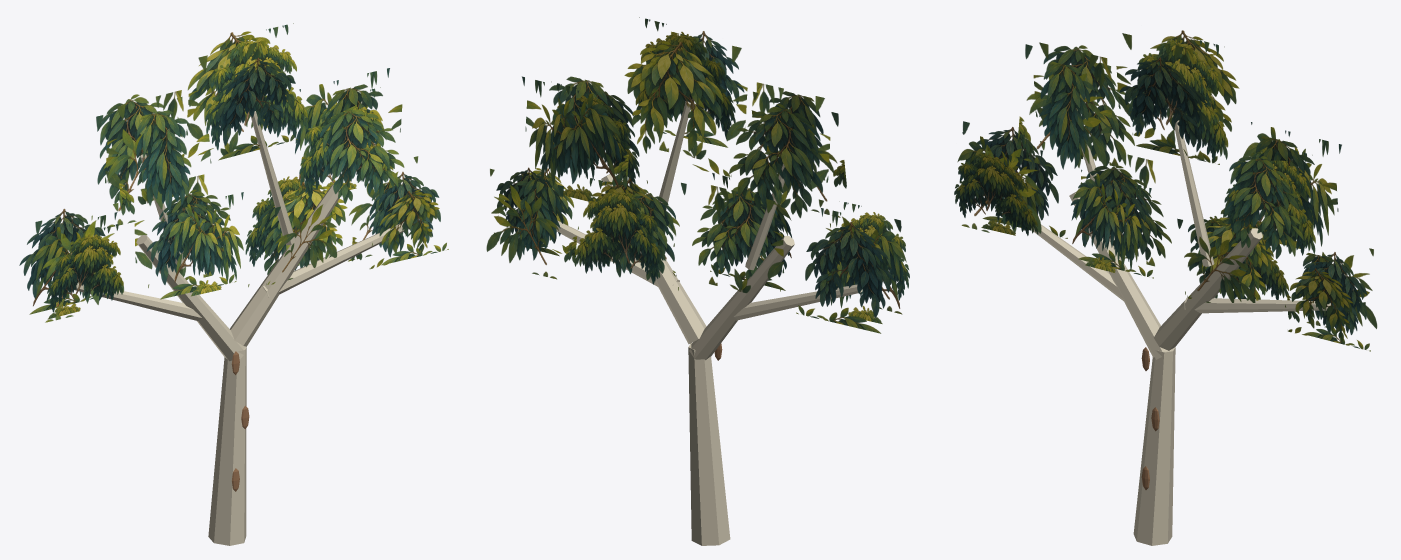
File: TREE_EUCALYPTUS_001_LOD_GAMEPLAY.glb
3 views of the same model, side by side, from view 1: azimuth 30°, elevation 25°; view 2: azimuth 150°, elevation 25°; view 3: azimuth 330°, elevation 25° (orthographic).
Parts seen in each view (by area): view 1: GG_EUC_V2_BRANCH_00, GG_EUC_FRONT_ISLAND_03_CLUSTER_00, GG_EUC_FRONT_ISLAND_02_CLUSTER_00, GG_EUC_FRONT_ISLAND_01_CLUSTER_00, GG_EUC_BODY_ISLAND_02_CLUSTER_01, GG_EUC_FRONT_ISLAND_05_CLUSTER_00, GG_EUC_FRONT_ISLAND_00_CLUSTER_00, GG_EUC_V2_BRANCH_02, GG_EUC_REAR_ISLAND_01_CLUSTER_00, GG_EUC_BODY_ISLAND_05_CLUSTER_00, GG_EUC_FRONT_ISLAND_04_CLUSTER_00, GG_EUC_BODY_ISLAND_03_CLUSTER_00 (+21 smaller); view 2: GG_EUC_REAR_ISLAND_02_CLUSTER_00, GG_EUC_REAR_ISLAND_01_CLUSTER_00, GG_EUC_V2_BRANCH_00, GG_EUC_REAR_ISLAND_03_CLUSTER_00, GG_EUC_REAR_ISLAND_00_CLUSTER_00, GG_EUC_REAR_ISLAND_06_CLUSTER_00, GG_EUC_BODY_ISLAND_05_CLUSTER_01, GG_EUC_BODY_ISLAND_04_CLUSTER_00, GG_EUC_V2_BRANCH_01, GG_EUC_BODY_ISLAND_02_CLUSTER_01, GG_EUC_BODY_ISLAND_03_CLUSTER_01, GG_EUC_BODY_ISLAND_00_CLUSTER_00 (+20 smaller); view 3: GG_EUC_V2_BRANCH_00, GG_EUC_FRONT_ISLAND_03_CLUSTER_00, GG_EUC_FRONT_ISLAND_02_CLUSTER_00, GG_EUC_FRONT_ISLAND_01_CLUSTER_00, GG_EUC_BODY_ISLAND_02_CLUSTER_01, GG_EUC_FRONT_ISLAND_00_CLUSTER_00, GG_EUC_FRONT_ISLAND_05_CLUSTER_00, GG_EUC_REAR_ISLAND_01_CLUSTER_00, GG_EUC_V2_BRANCH_02, GG_EUC_FRONT_ISLAND_04_CLUSTER_00, GG_EUC_REAR_ISLAND_00_CLUSTER_00, GG_EUC_BODY_ISLAND_03_CLUSTER_00 (+21 smaller).
Boxes of the visible parts, <box> form: GG_EUC_V2_BRANCH_00: <box>208,346,246,545</box>; GG_EUC_FRONT_ISLAND_03_CLUSTER_00: <box>318,107,404,211</box>; GG_EUC_FRONT_ISLAND_02_CLUSTER_00: <box>212,57,297,160</box>; GG_EUC_FRONT_ISLAND_01_CLUSTER_00: <box>119,110,211,215</box>; GG_EUC_BODY_ISLAND_02_CLUSTER_01: <box>205,23,308,150</box>; GG_EUC_FRONT_ISLAND_05_CLUSTER_00: <box>168,192,243,296</box>; GG_EUC_FRONT_ISLAND_00_CLUSTER_00: <box>46,224,123,312</box>; GG_EUC_V2_BRANCH_02: <box>230,184,340,346</box>; GG_EUC_REAR_ISLAND_01_CLUSTER_00: <box>91,94,191,220</box>; GG_EUC_BODY_ISLAND_05_CLUSTER_00: <box>146,203,236,299</box>; GG_EUC_FRONT_ISLAND_04_CLUSTER_00: <box>369,190,439,269</box>; GG_EUC_BODY_ISLAND_03_CLUSTER_00: <box>299,87,393,199</box>; GG_EUC_REAR_ISLAND_02_CLUSTER_00: <box>624,41,732,176</box>; GG_EUC_REAR_ISLAND_01_CLUSTER_00: <box>729,104,830,227</box>; GG_EUC_V2_BRANCH_00: <box>688,343,730,545</box>; GG_EUC_REAR_ISLAND_03_CLUSTER_00: <box>522,76,621,201</box>; GG_EUC_REAR_ISLAND_00_CLUSTER_00: <box>796,222,894,333</box>; GG_EUC_REAR_ISLAND_06_CLUSTER_00: <box>574,178,663,284</box>; GG_EUC_BODY_ISLAND_05_CLUSTER_01: <box>692,187,780,291</box>; GG_EUC_BODY_ISLAND_04_CLUSTER_00: <box>498,174,576,263</box>; GG_EUC_V2_BRANCH_01: <box>689,236,794,360</box>; GG_EUC_BODY_ISLAND_02_CLUSTER_01: <box>635,17,735,138</box>; GG_EUC_BODY_ISLAND_03_CLUSTER_01: <box>525,76,628,187</box>; GG_EUC_BODY_ISLAND_00_CLUSTER_00: <box>821,208,906,323</box>; GG_EUC_V2_BRANCH_00: <box>1133,347,1175,545</box>; GG_EUC_FRONT_ISLAND_03_CLUSTER_00: <box>1216,156,1303,258</box>; GG_EUC_FRONT_ISLAND_02_CLUSTER_00: <box>1119,57,1219,164</box>; GG_EUC_FRONT_ISLAND_01_CLUSTER_00: <box>1017,61,1112,169</box>; GG_EUC_BODY_ISLAND_02_CLUSTER_01: <box>1128,39,1228,161</box>; GG_EUC_FRONT_ISLAND_00_CLUSTER_00: <box>954,153,1038,235</box>; GG_EUC_FRONT_ISLAND_05_CLUSTER_00: <box>1071,169,1151,272</box>; GG_EUC_REAR_ISLAND_01_CLUSTER_00: <box>1033,45,1134,166</box>; GG_EUC_V2_BRANCH_02: <box>1154,228,1262,350</box>; GG_EUC_FRONT_ISLAND_04_CLUSTER_00: <box>1285,268,1353,341</box>; GG_EUC_REAR_ISLAND_00_CLUSTER_00: <box>977,127,1067,238</box>; GG_EUC_BODY_ISLAND_03_CLUSTER_00: <box>1224,148,1315,255</box>.
Size of the model in its own units: 6.18 by 7.03 by 0.8485.
3 materials, 1 textured.
